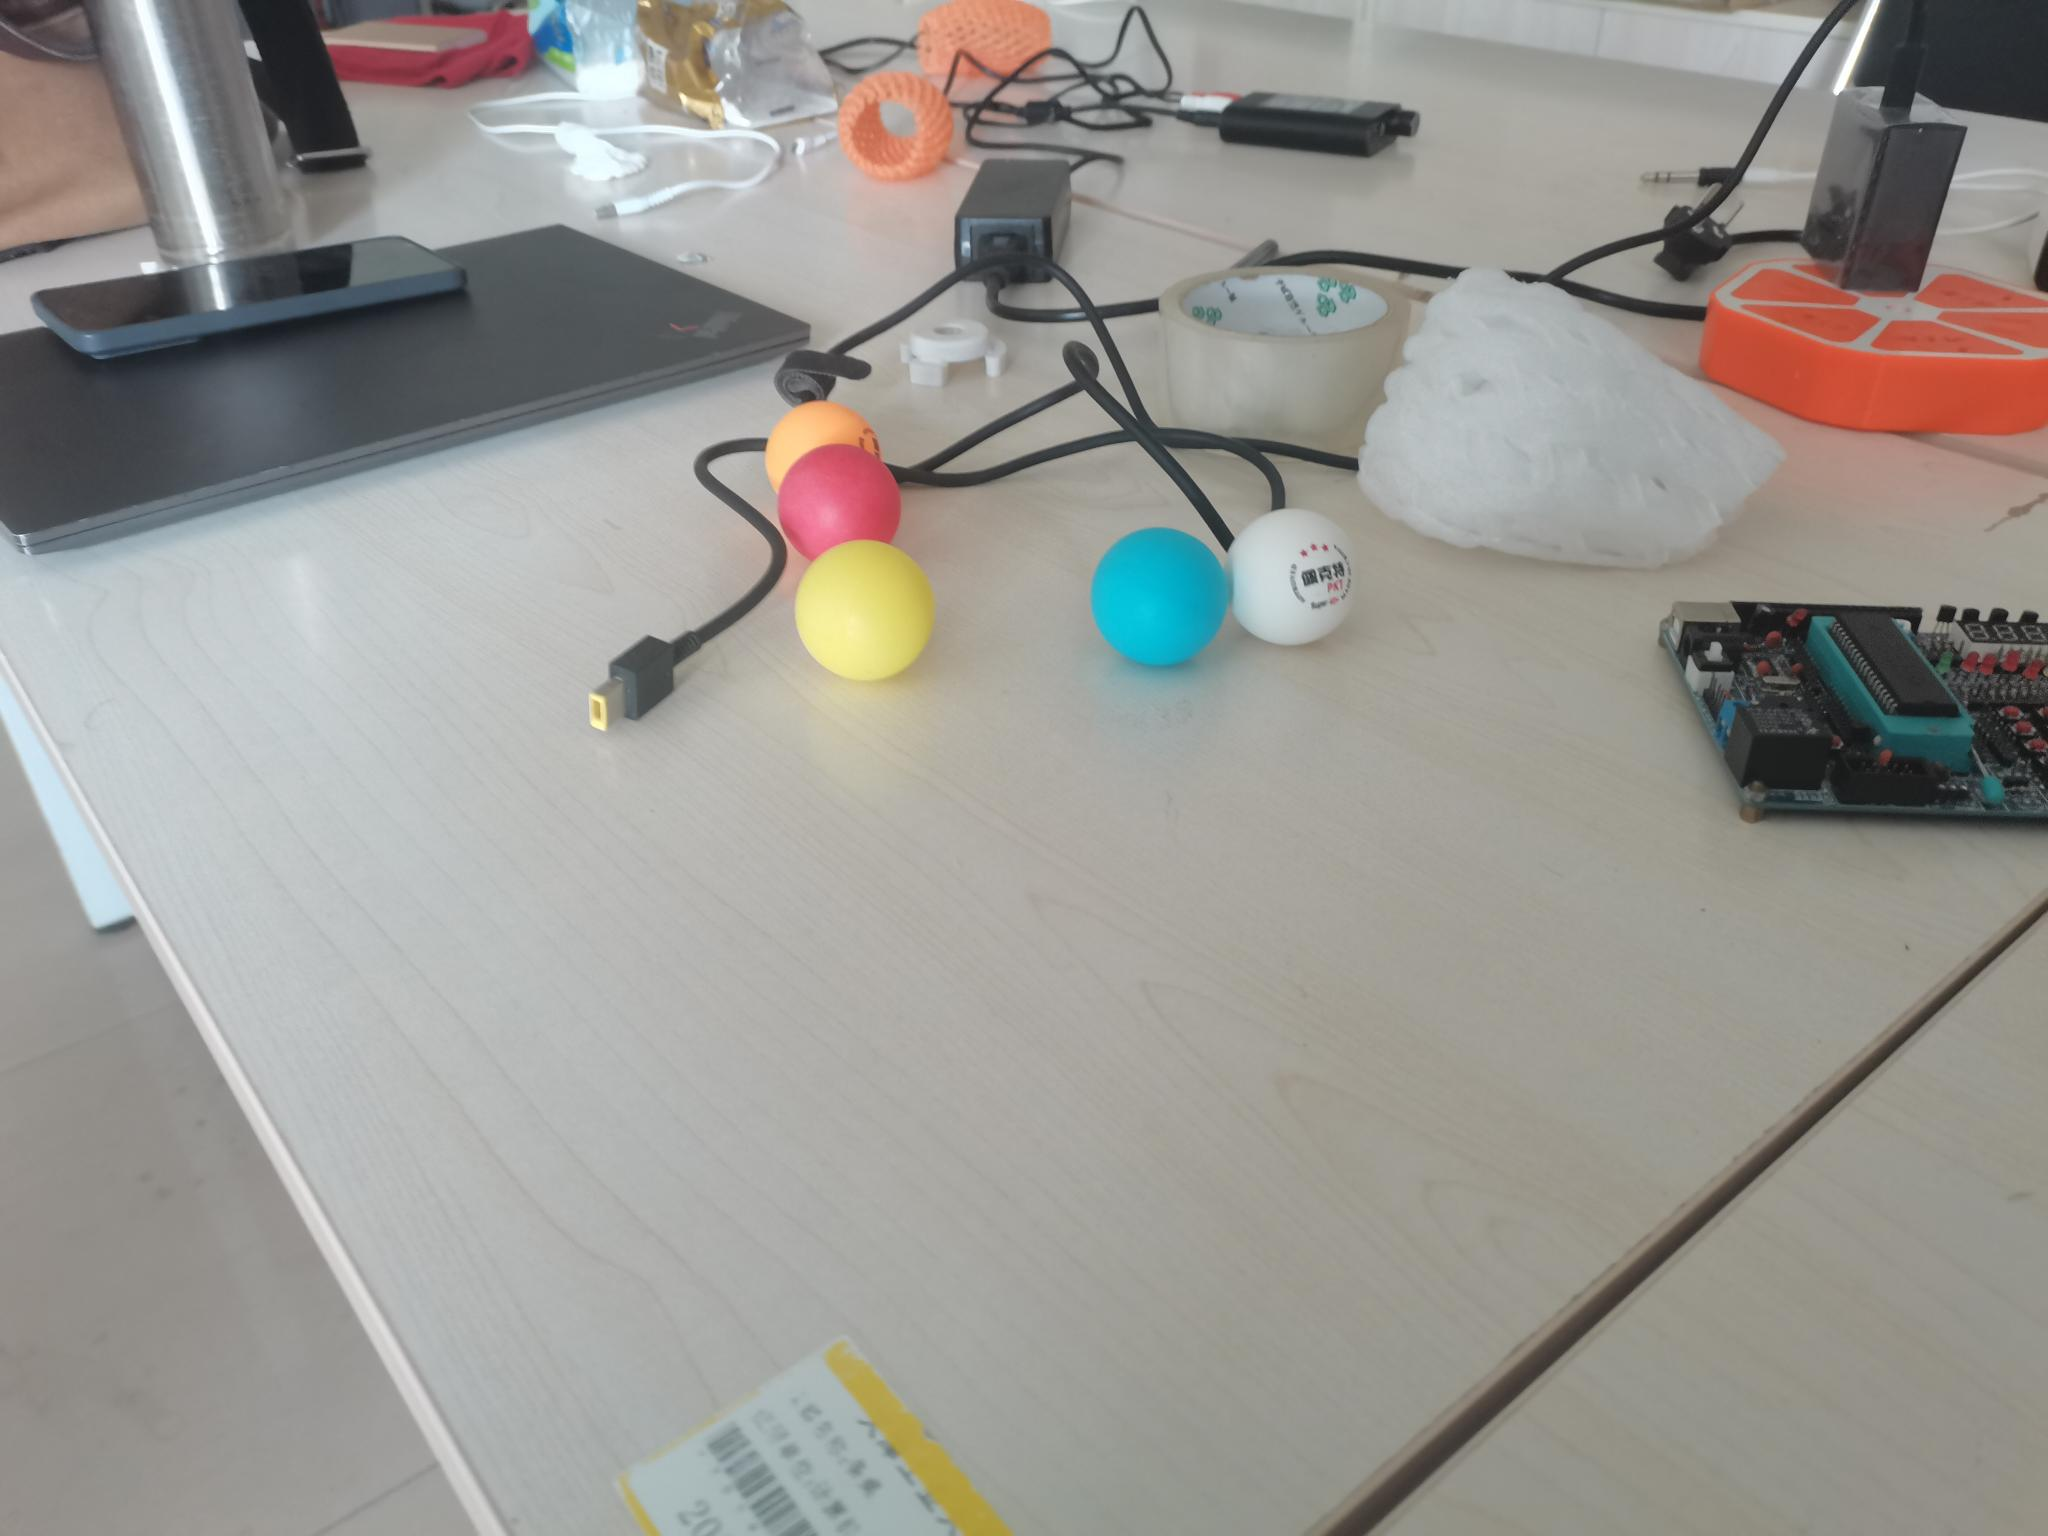ball: (1093, 526, 1224, 668), (1232, 503, 1359, 641), (805, 544, 929, 679), (787, 442, 897, 558), (761, 402, 872, 502)
